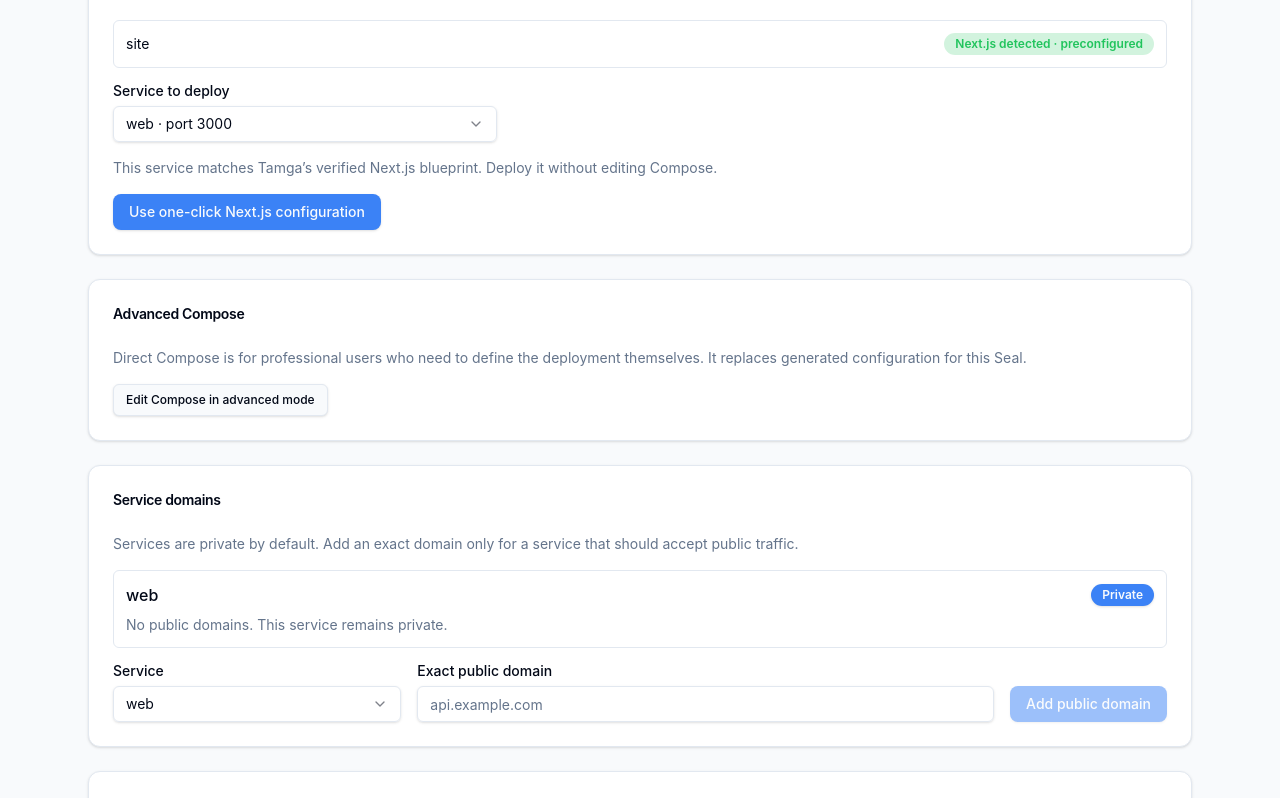
it: SealConfigurePage › makes detected Next.js one-click configuration prominent while Compose stays opt-in
The width and height of the screenshot is (1280, 798).
(page scrolled)
Click the button "Edit Compose in advanced mode". click: [220, 400]
box: [113, 384, 328, 416]
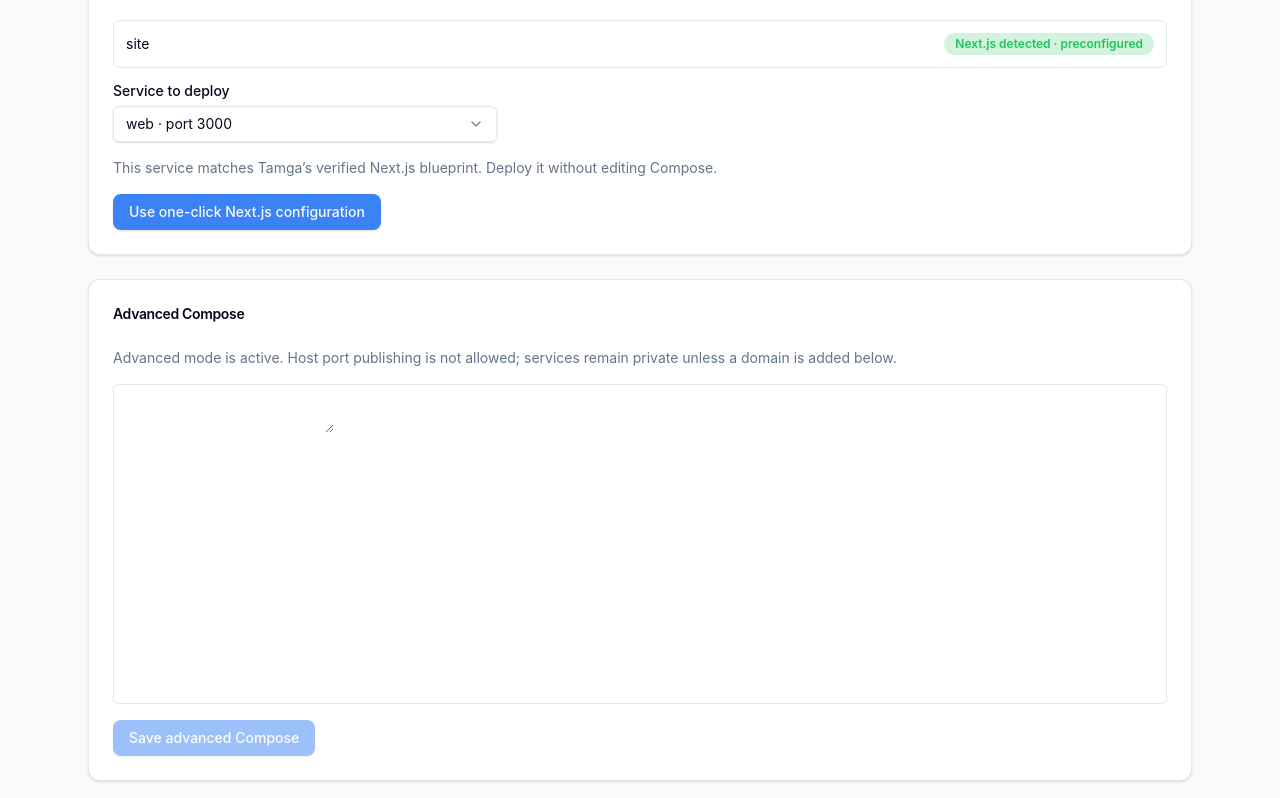
Check: the text box with test id "compose-editor" is shown, box [114, 385, 334, 433]
